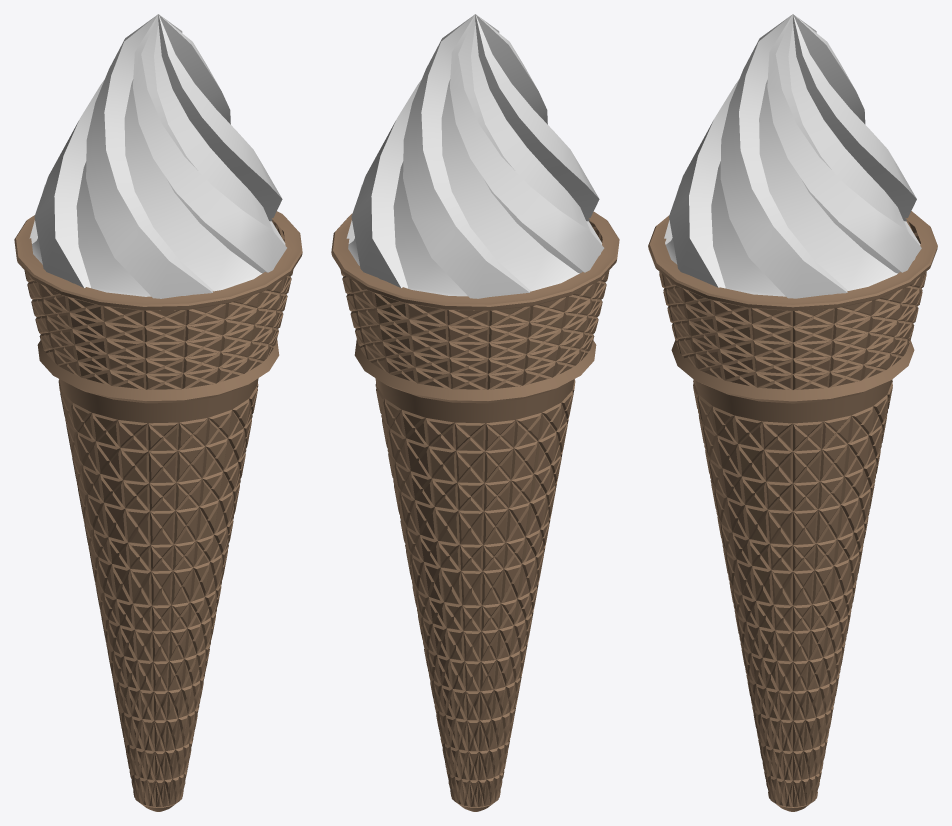
Rendered from Ice Cream Low Poly.fbx.
The picture shows the model from 3 angles, left to right: view 1: azimuth 30°, elevation 25°; view 2: azimuth 150°, elevation 25°; view 3: azimuth 270°, elevation 25°; orthographic projection.
Visible parts, largest first — view 1: pCone1, pCone2; view 2: pCone1, pCone2; view 3: pCone1, pCone2.
Part boxes in pixels (left/top/right/bottom): pCone1: left=14, top=211, right=302, bottom=811; pCone2: left=29, top=14, right=286, bottom=298; pCone1: left=331, top=211, right=619, bottom=811; pCone2: left=346, top=14, right=604, bottom=298; pCone1: left=648, top=211, right=937, bottom=811; pCone2: left=664, top=14, right=921, bottom=298.
Bounding box in the file's own units: 3.03 × 9.17 × 3.03.
